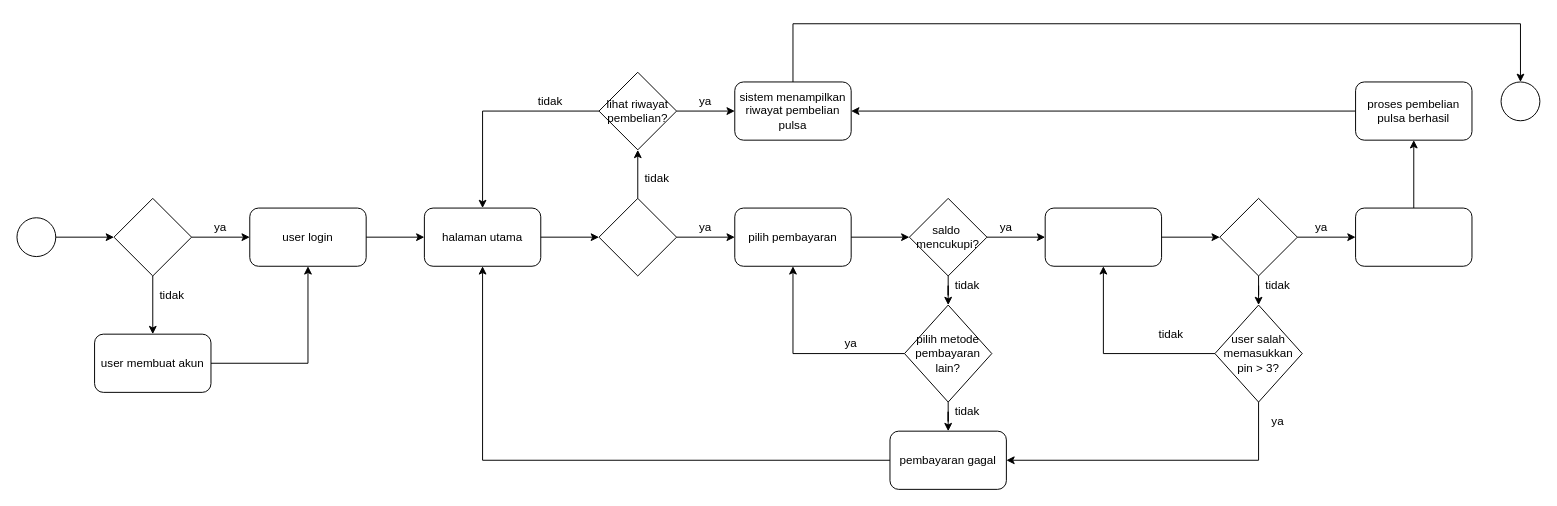
Image size: 1557x506. Some labels were removed from this diagram. The shapes that lost their labels are listed below. From the top down, each one's centre as x and y in pixels, then its label:
the point at 152,236: user punya akun?
the point at 637,236: top-up pulsa?
the point at 1103,236: sistem mengonfirmasi pesanan dan meminta user memasukkan pin
the point at 1258,236: pin benar?
the point at 1413,236: sistem memproses pesanan
